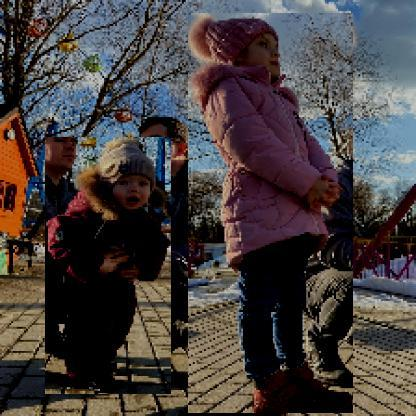child: (189, 14, 356, 415), (46, 139, 173, 397)
